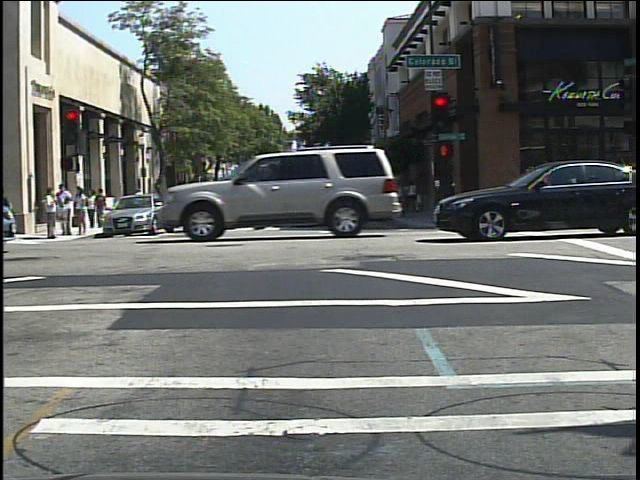person: (177, 181, 194, 217), (132, 185, 147, 216), (87, 188, 98, 230)
